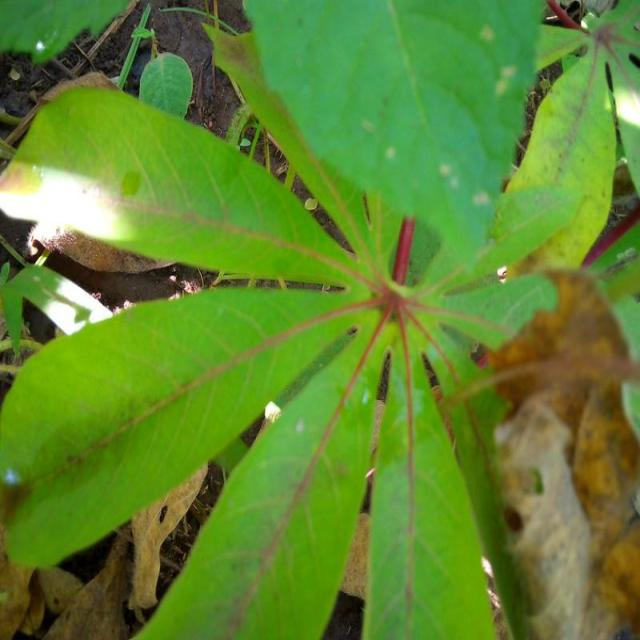cassava leaf: (1, 1, 636, 637), (0, 282, 370, 570), (240, 0, 546, 283), (0, 81, 361, 287)
